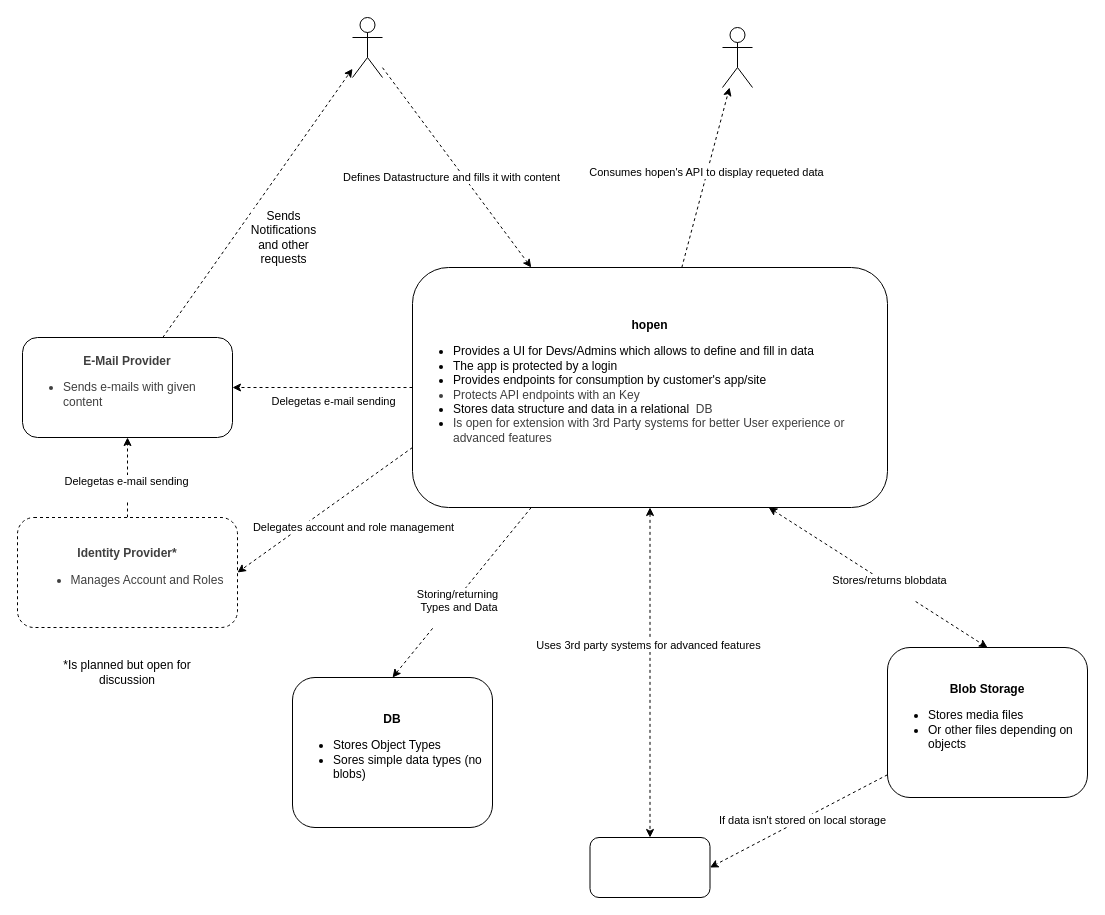
This 1105x915 diagram has some shape labels left out. Here are the shapes that lost their labels. From the top down, the centre of each, then its label:
At (x=367, y=47): "Dev/Site-Admin".
At (x=737, y=57): "Customer's App/Site".
At (x=649, y=867): "Third Party Systems e.g. S3".
